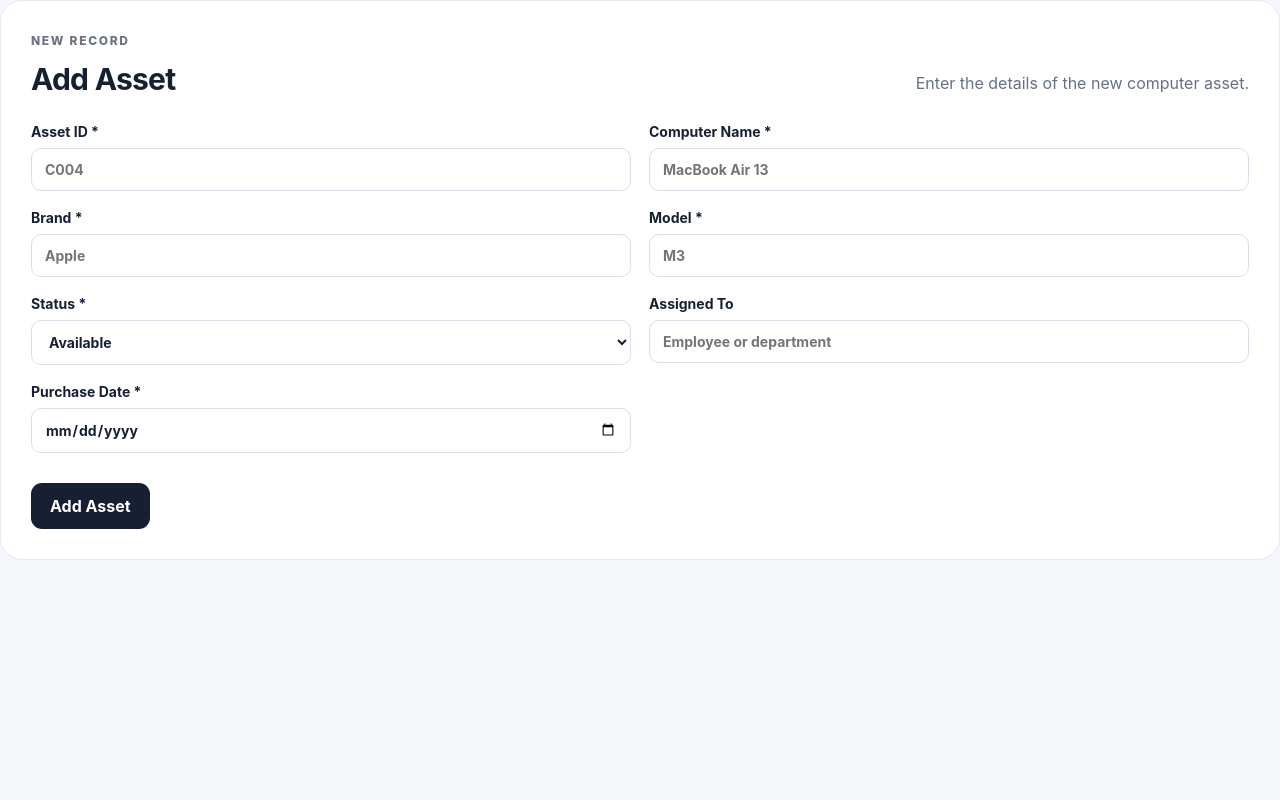
Test: AssetForm › shows validation when required fields are missing
The width and height of the screenshot is (1280, 800).
Click the button "Add Asset".
click(90, 506)  # box [31,483,150,529]
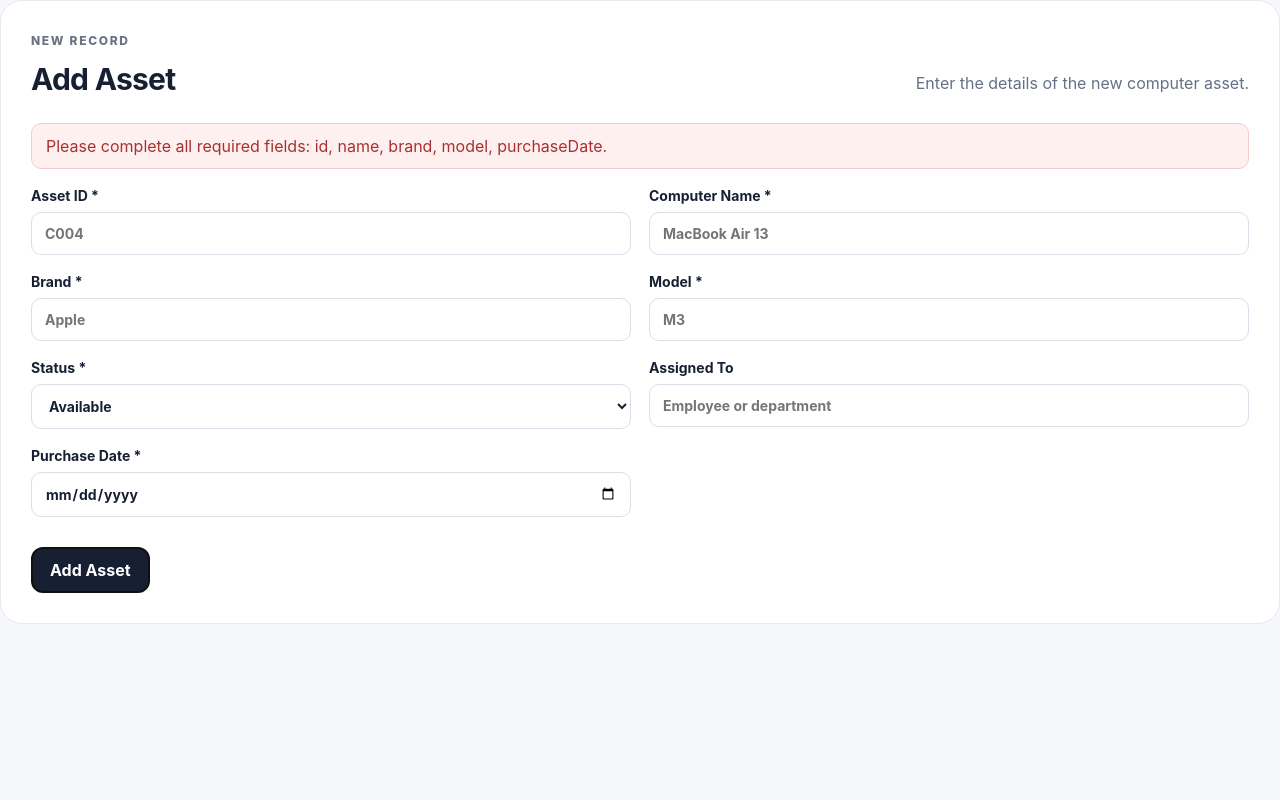
Now the message shows "complete all required fields", box [46,136,607,156]
